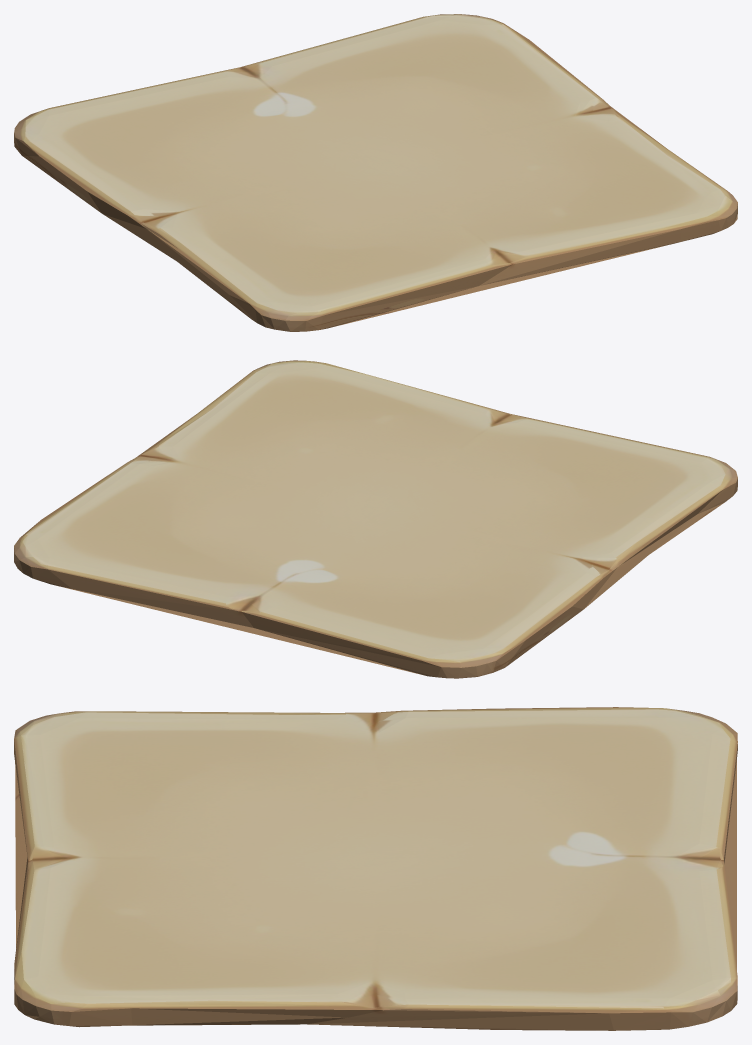
Rendered from baldosa_camino_03.glb.
3 views of the same model, one above another, from view 1: azimuth 30°, elevation 25°; view 2: azimuth 150°, elevation 25°; view 3: azimuth 270°, elevation 25° (orthographic). The views are drawn at different scales.
Parts seen in each view (by area): view 1: BaldosaCamino_03; view 2: BaldosaCamino_03; view 3: BaldosaCamino_03.
Part boxes in pixels (left/top/right/bottom): BaldosaCamino_03: left=14, top=14, right=737, bottom=331; BaldosaCamino_03: left=14, top=360, right=737, bottom=678; BaldosaCamino_03: left=14, top=707, right=737, bottom=1030.
Bounding box in the file's own units: 0.98 × 0.035 × 0.98.
1 material, 1 textured.
